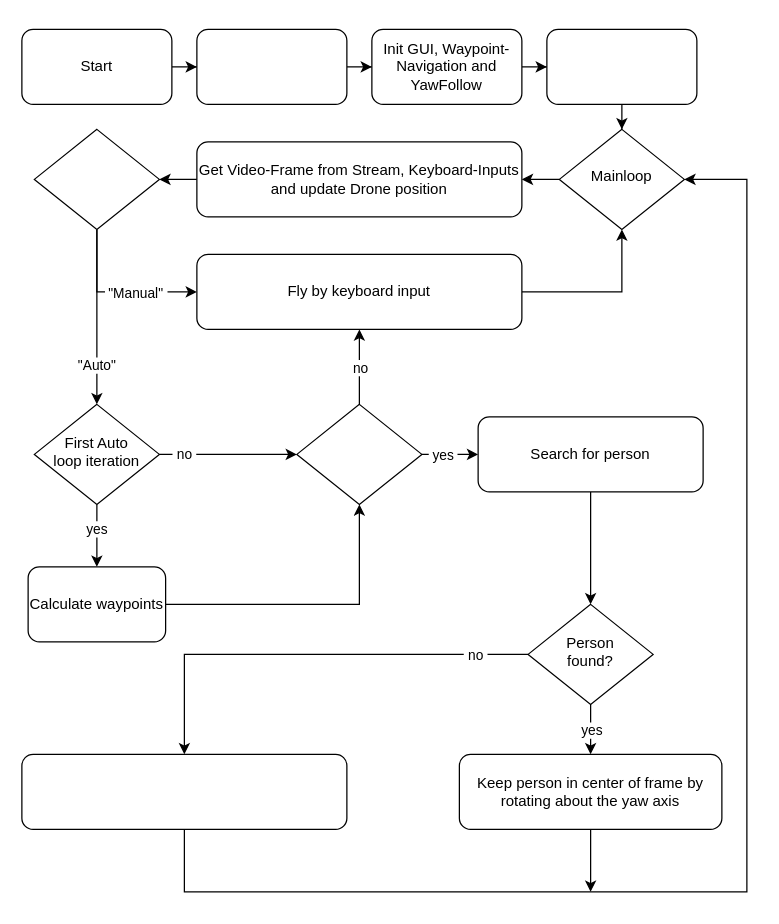
The diagram is 779 pixels wide and 924 high, and some of its shapes have lost their labels. Here are the shapes that lost their labels. From the top down, the box of each, then its label:
(196, 28, 347, 104): Build up connection with Tello Drone
(546, 28, 697, 104): Start Video-Stream from Tello Drone
(33, 128, 159, 229): Flightmode?
(296, 403, 422, 504): "Space" pressed?
(21, 753, 347, 829): Look at next waypoint and move into direction
